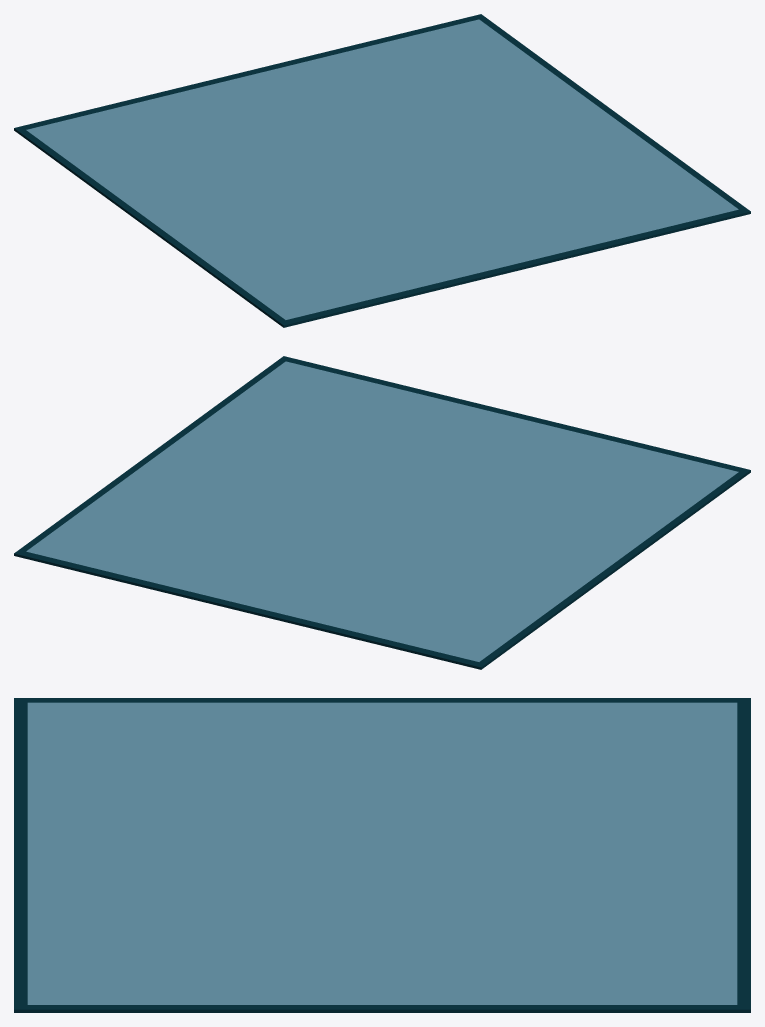
File: Agua_0.fbx
3 renders of one model, top to bottom at view 1: azimuth 30°, elevation 25°; view 2: azimuth 150°, elevation 25°; view 3: azimuth 270°, elevation 25°, orthographic. The views are drawn at different scales.
Parts seen in each view (by area): view 1: pCube3; view 2: pCube3; view 3: pCube3.
Boxes of the visible parts, x1,y1,x2,y2 form: pCube3: (14, 14, 750, 327); pCube3: (14, 356, 750, 669); pCube3: (14, 698, 750, 1012).
Bounding box in the file's own units: 200 × 1 × 200.
